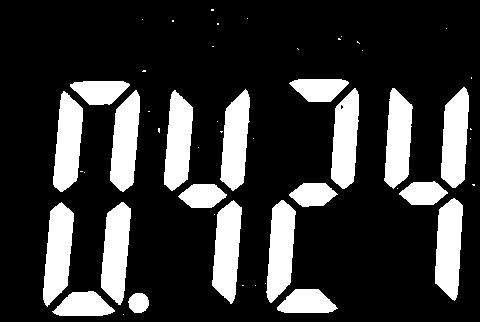0: (39, 75, 141, 317)
2: (267, 77, 362, 313)
4: (160, 88, 252, 306), (380, 86, 471, 305)
dot: (125, 291, 151, 313)
